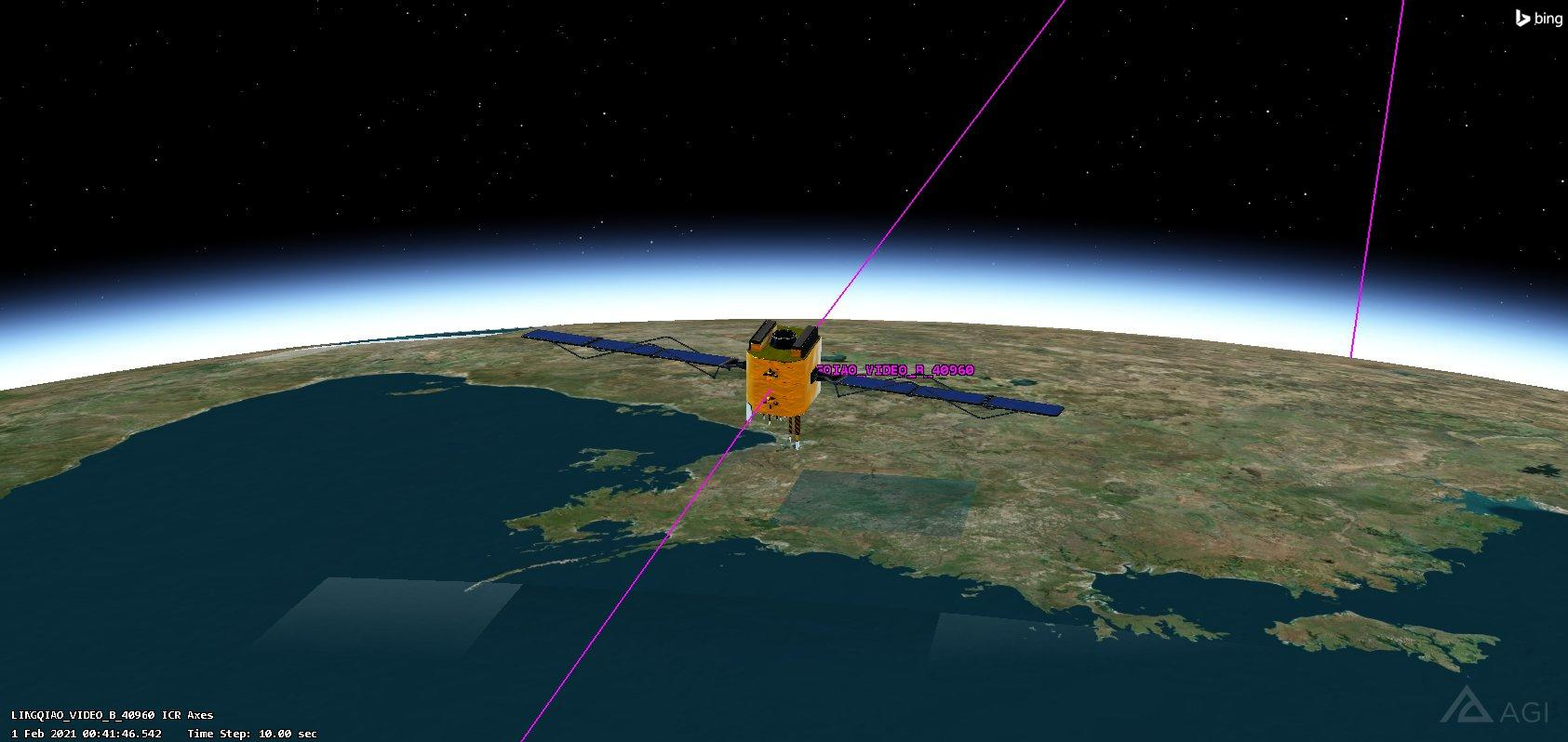antenna: (744, 400, 753, 424)
body: (747, 325, 822, 417)
solar: (811, 364, 1065, 422), (521, 327, 747, 371)
